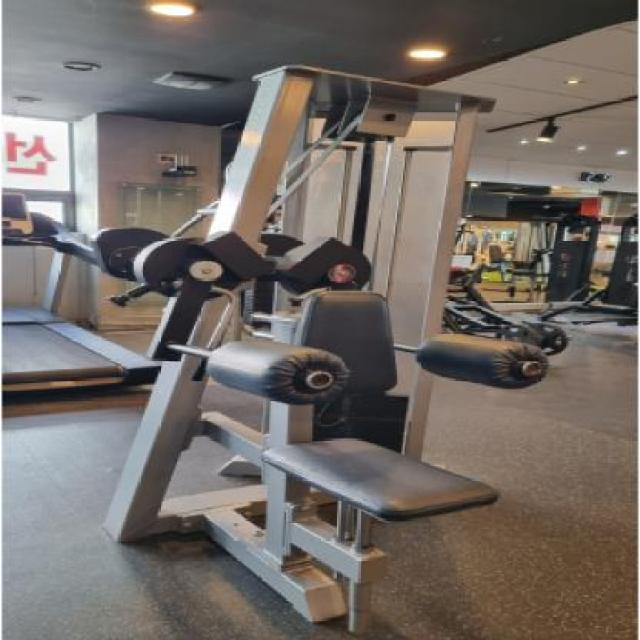lateral raises machine: (108, 222, 552, 638)
